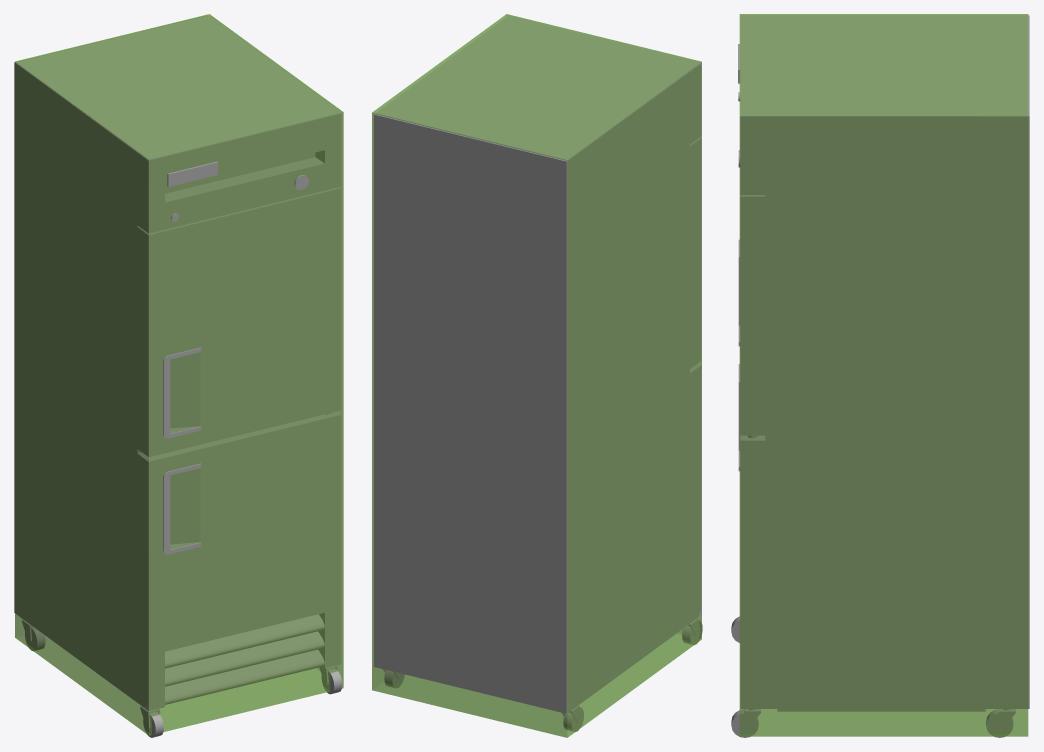
The model's file is p_Refrigerator_01_a.fbx.
3 renders of one model, left to right at view 1: azimuth 30°, elevation 25°; view 2: azimuth 150°, elevation 25°; view 3: azimuth 270°, elevation 25°, orthographic. The views are drawn at different scales.
Visible parts, largest first — view 1: p_Refrigerator_01_a_col, p_Refrigerator_01_a_LOD0; view 2: p_Refrigerator_01_a_LOD0, p_Refrigerator_01_a_col; view 3: p_Refrigerator_01_a_col, p_Refrigerator_01_a_LOD0.
Part boxes in pixels (<box>): p_Refrigerator_01_a_col: <box>15,14,343,735</box>; p_Refrigerator_01_a_LOD0: <box>14,15,342,737</box>; p_Refrigerator_01_a_LOD0: <box>374,16,702,731</box>; p_Refrigerator_01_a_col: <box>372,14,701,737</box>; p_Refrigerator_01_a_col: <box>739,14,1028,736</box>; p_Refrigerator_01_a_LOD0: <box>731,15,1029,737</box>.
Size of what is drawn, in the model's own units: 71.57 by 204 by 88.17.
